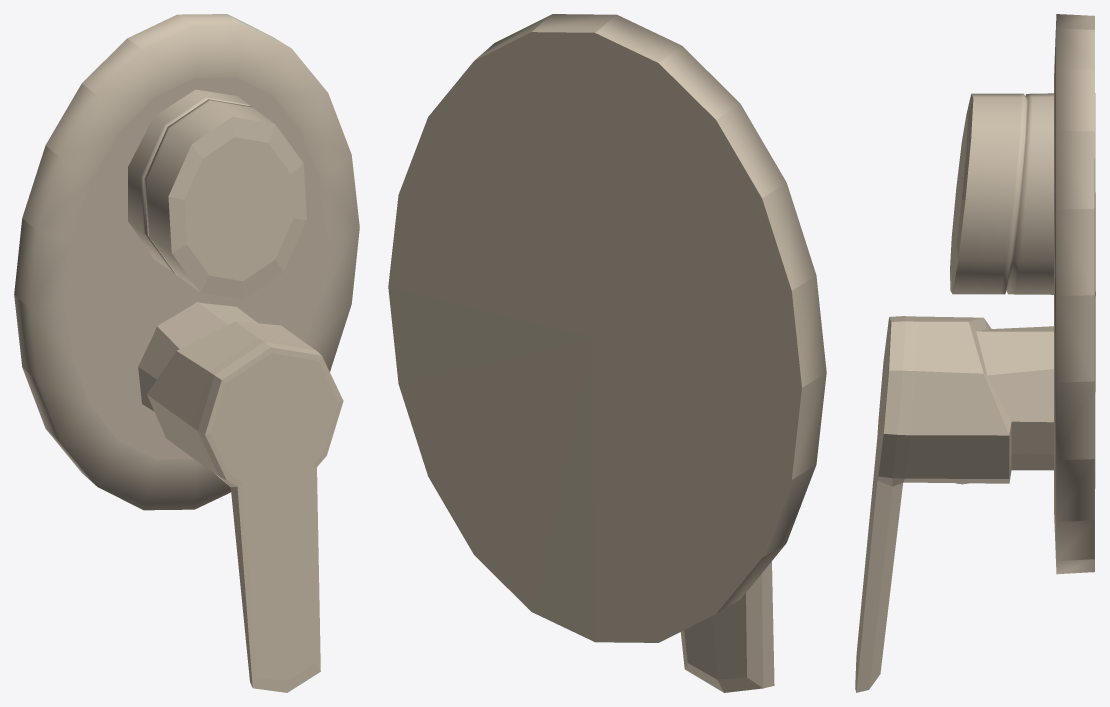
File: tap_08_L.fbx
3 renders of one model, left to right at view 1: azimuth 30°, elevation 25°; view 2: azimuth 150°, elevation 25°; view 3: azimuth 270°, elevation 25°, orthographic. The views are drawn at different scales.
Parts seen in each view (by area): view 1: tap_08_L; view 2: tap_08_L; view 3: tap_08_L.
Part boxes in pixels (x1,y1,x2,y2): tap_08_L: [14, 14, 359, 692]; tap_08_L: [388, 14, 826, 692]; tap_08_L: [855, 14, 1095, 692].
Bounding box in the file's own units: 2.61 × 4.53 × 1.5.
